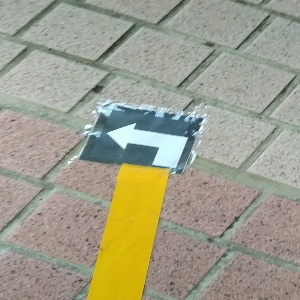left: (78, 102, 199, 171)
